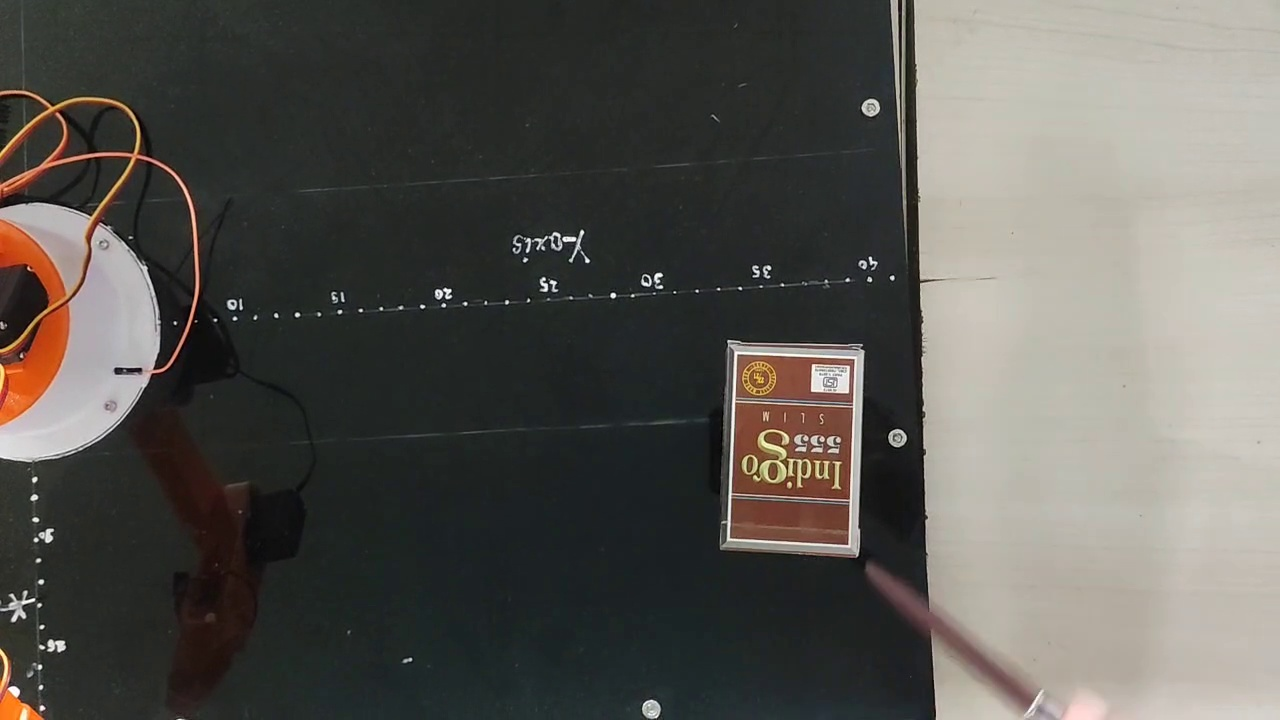BEX: (727, 353, 853, 544)
